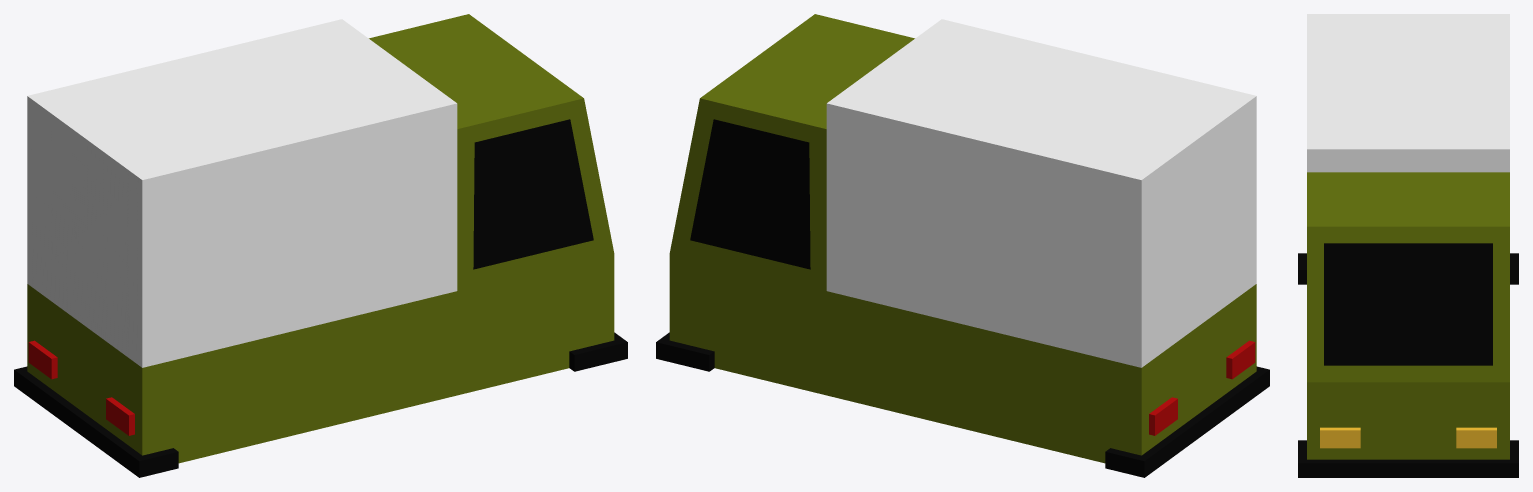
Rendered from CityTruckA_01.fbx.
3 views of the same model, side by side, from view 1: azimuth 30°, elevation 25°; view 2: azimuth 150°, elevation 25°; view 3: azimuth 270°, elevation 25° (orthographic). The views are drawn at different scales.
Visible parts, largest first — view 1: CityTruckA_01; view 2: CityTruckA_01; view 3: CityTruckA_01.
Boxes of the visible parts, x1,y1,x2,y2 form: CityTruckA_01: (14, 14, 627, 477); CityTruckA_01: (656, 14, 1269, 477); CityTruckA_01: (1298, 14, 1518, 477).
Size of the model in its own units: 0.5913 by 0.3379 by 0.2626.
